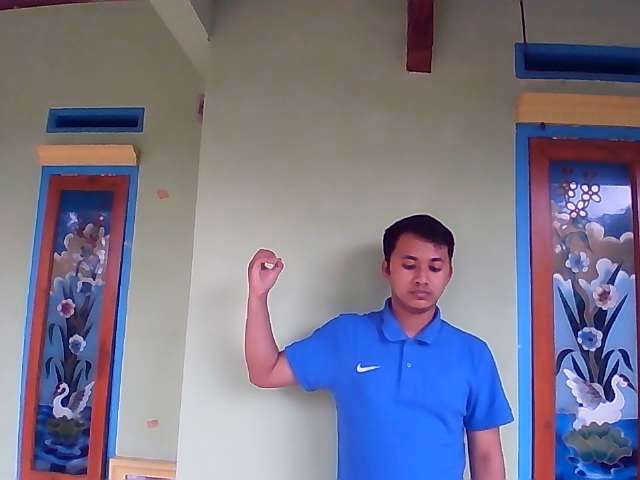O: (246, 248, 285, 295)
